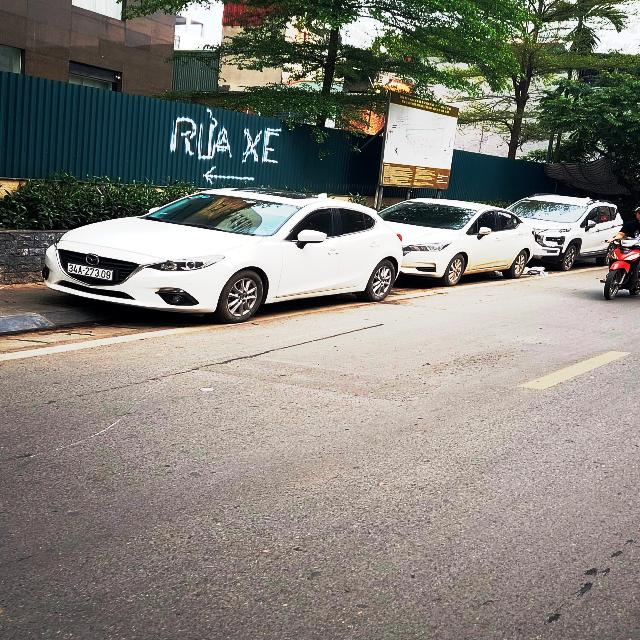license_plate: (68, 264, 114, 281)
